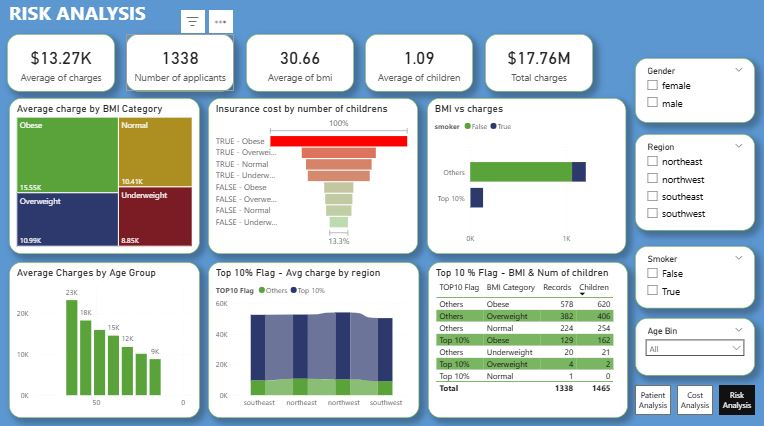

The page's visual inventory and layout, read from the dashboard file:
{"tool":"powerbi","page":{"name":"Risk Analysis","canvas":[1280,720],"ordinal":2},"visuals":[{"type":"card","fields":{"Values":["Avg(Insurance.charges)"]},"box":[12.9,62.7,180,95.7],"z":0},{"type":"textbox","box":[11.4,0,517.1,61.4],"z":1000},{"type":"card","fields":{"Values":["Insurance.Records"]},"box":[212.4,62.6,180,96],"z":2000},{"type":"card","fields":{"Values":["Avg(Insurance.bmi)"]},"box":[411.5,62.6,180,96],"z":3000},{"type":"card","fields":{"Values":["Avg(Insurance.children)"]},"box":[610.6,62.6,180,96],"z":4000},{"type":"card","fields":{"Values":["Sum(Insurance.charges)"]},"box":[809.7,62.6,180,96],"z":5000},{"type":"ribbonChart","title":"Top 10% Flag - Avg charge by region","fields":{"Category":["Insurance.region"],"Series":["Insurance.TOP10 Flag"],"Y":["Insurance.Avg Charges"]},"box":[347.9,442.6,352.2,260],"z":6000},{"type":"funnel","title":"Insurance cost by number  of childrens","fields":{"Category":["Insurance.Risk Group"],"Y":["Insurance.Avg Charges"]},"box":[349,169.5,350,260],"z":7000},{"type":"barChart","title":"BMI vs charges","fields":{"Category":["Insurance.TOP10 Flag"],"Y":["Insurance.Records"],"Series":["Insurance.smoker"]},"box":[713.7,169.5,332,260],"z":8000},{"type":"columnChart","title":"Average Charges by Age Group","fields":{"Category":["Insurance.age (bins)"],"Y":["Insurance.Avg Charges"]},"box":[16.4,442.6,318.2,260],"z":9000},{"type":"slicer","fields":{"Values":["Insurance.sex"]},"box":[1060,103,200,108],"z":10000},{"type":"slicer","fields":{"Values":["Insurance.region"]},"box":[1060,230.5,200,161],"z":11000},{"type":"slicer","fields":{"Values":["Insurance.smoker"]},"box":[1060,416.5,200,103.6],"z":12000},{"type":"slicer","fields":{"Values":["Insurance.age (bins)"]},"box":[1060,536.5,200,96],"z":13000},{"type":"treemap","title":"Average charge by BMI Category","fields":{"Group":["Insurance.BMI Category"],"Values":["Insurance.Avg Charges"]},"box":[16.3,169.5,318.3,260],"z":14000},{"type":"tableEx","title":"Top 10 % Flag - BMI & Num of children","fields":{"Values":["Insurance.TOP10 Flag","Insurance.BMI Category","Insurance.Records","Sum(Insurance.children)"]},"box":[714.2,442.6,332.6,260],"z":15000},{"type":"pageNavigator","box":[1060,648,200,50],"z":16000}]}

Visuals, with their boxes in screenshot pixels (x1, y1, x2, y2), scaled from the page's 1280x720 canvas onto the 764x426 screenshot:
card - Avg(Insurance.charges): box(8, 37, 115, 94)
textbox: box(7, 0, 315, 36)
card - Insurance.Records: box(127, 37, 234, 94)
card - Avg(Insurance.bmi): box(246, 37, 353, 94)
card - Avg(Insurance.children): box(364, 37, 472, 94)
card - Sum(Insurance.charges): box(483, 37, 591, 94)
"Top 10% Flag - Avg charge by region" ribbonChart: box(208, 262, 418, 416)
"Insurance cost by number  of childrens" funnel: box(208, 100, 417, 254)
"BMI vs charges" barChart: box(426, 100, 624, 254)
"Average Charges by Age Group" columnChart: box(10, 262, 200, 416)
slicer - Insurance.sex: box(633, 61, 752, 125)
slicer - Insurance.region: box(633, 136, 752, 232)
slicer - Insurance.smoker: box(633, 246, 752, 308)
slicer - Insurance.age (bins): box(633, 317, 752, 374)
"Average charge by BMI Category" treemap: box(10, 100, 200, 254)
"Top 10 % Flag - BMI & Num of children" tableEx: box(426, 262, 625, 416)
pageNavigator: box(633, 383, 752, 413)
